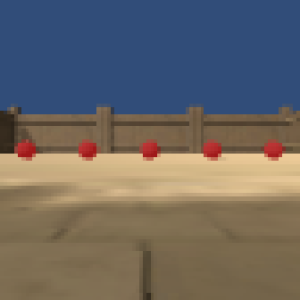badGoal: (137, 139, 162, 164), (13, 136, 39, 160), (199, 139, 223, 163), (260, 139, 285, 162), (76, 139, 98, 161)
